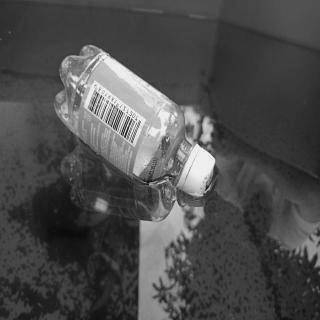bottle: (51, 39, 219, 200)
